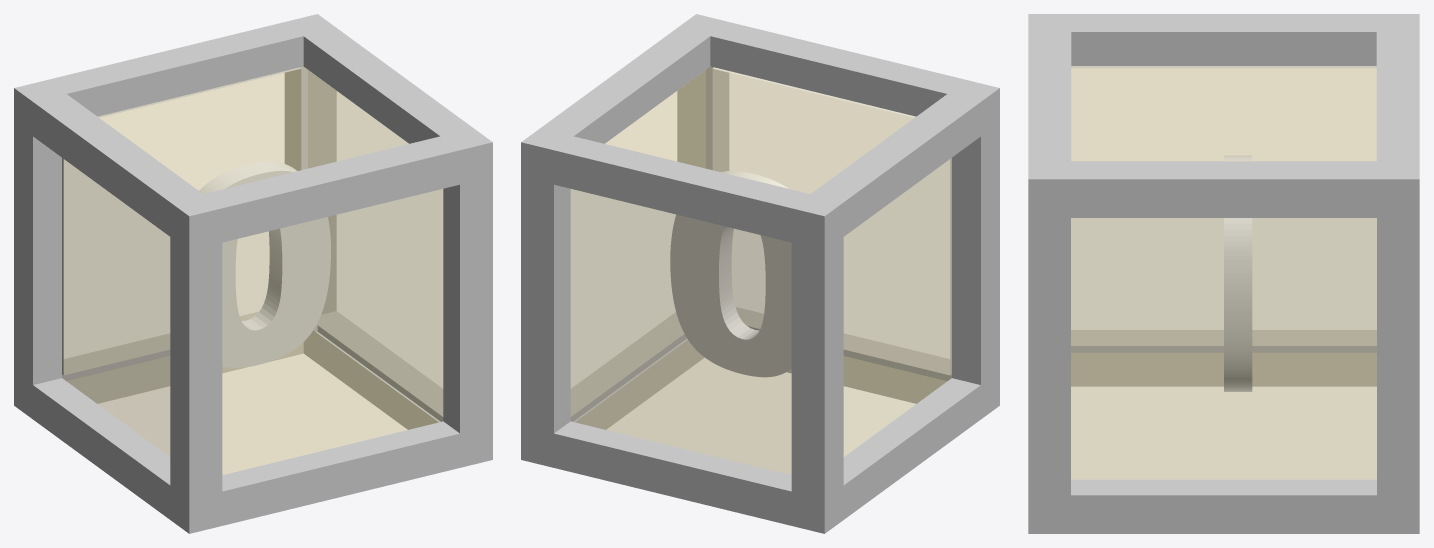
The model's file is zero.fbx.
3 views of the same model, side by side, from view 1: azimuth 30°, elevation 25°; view 2: azimuth 150°, elevation 25°; view 3: azimuth 270°, elevation 25° (orthographic). The views are drawn at different scales.
Parts seen in each view (by area): view 1: MeshChunk (×3); view 2: MeshChunk (×3); view 3: MeshChunk (×3).
Boxes of the visible parts, x1=… form: MeshChunk (×3): x1=14, y1=14, x2=492, y2=533; MeshChunk (×3): x1=521, y1=14, x2=999, y2=533; MeshChunk (×3): x1=1028, y1=14, x2=1419, y2=533.
Size of the model in its own units: 3.44 by 3.44 by 3.44.
